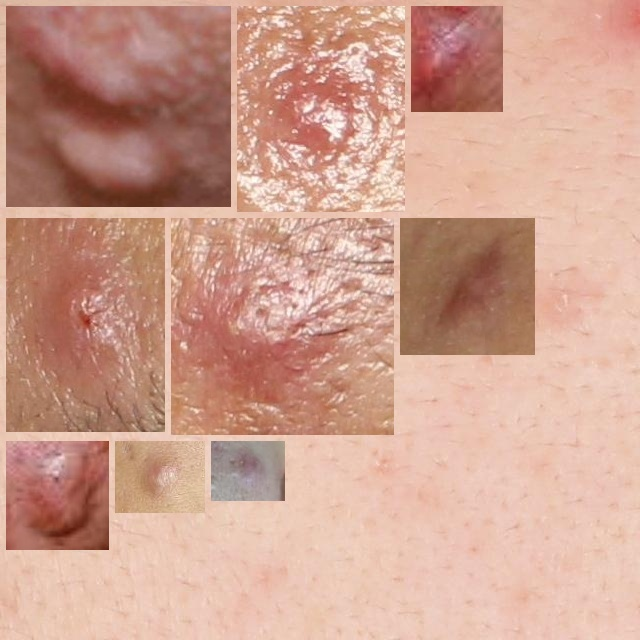nodule: (179, 226, 386, 427), (14, 14, 223, 199), (245, 14, 397, 204), (14, 226, 157, 424), (408, 226, 527, 347), (14, 449, 101, 542), (419, 14, 495, 104), (123, 449, 197, 505), (219, 449, 277, 493)
